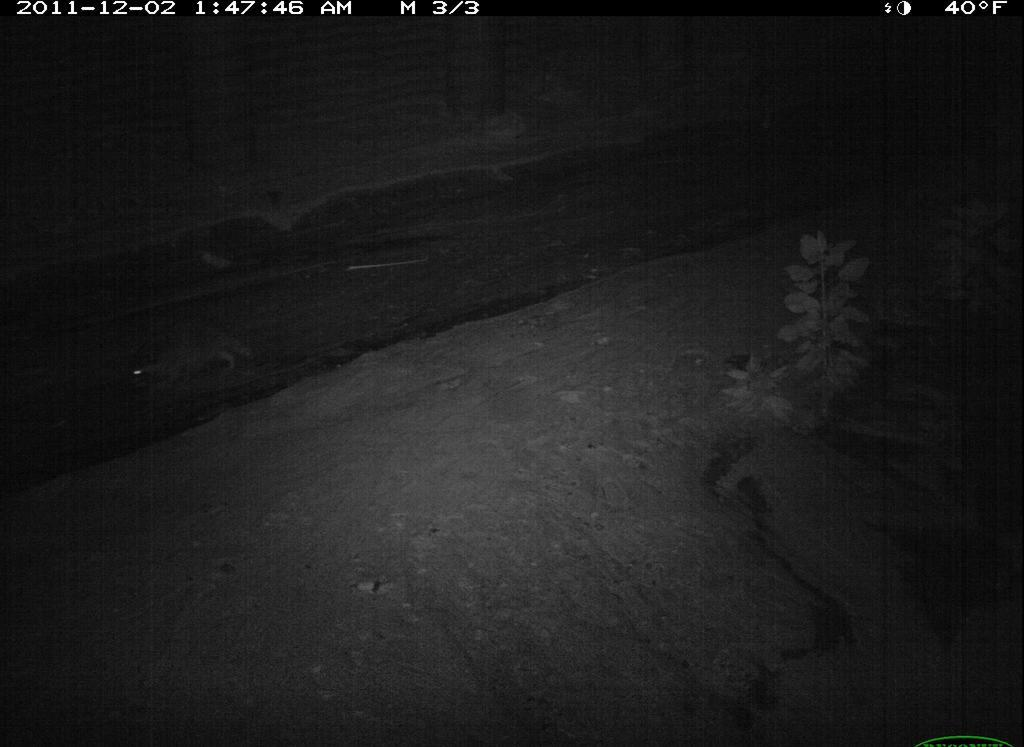raccoon: (111, 300, 265, 392)
